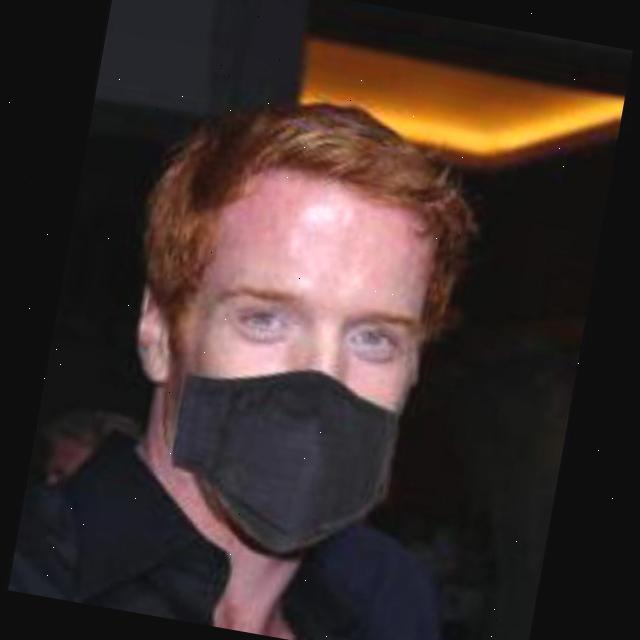suspicion: (148, 108, 476, 558)
